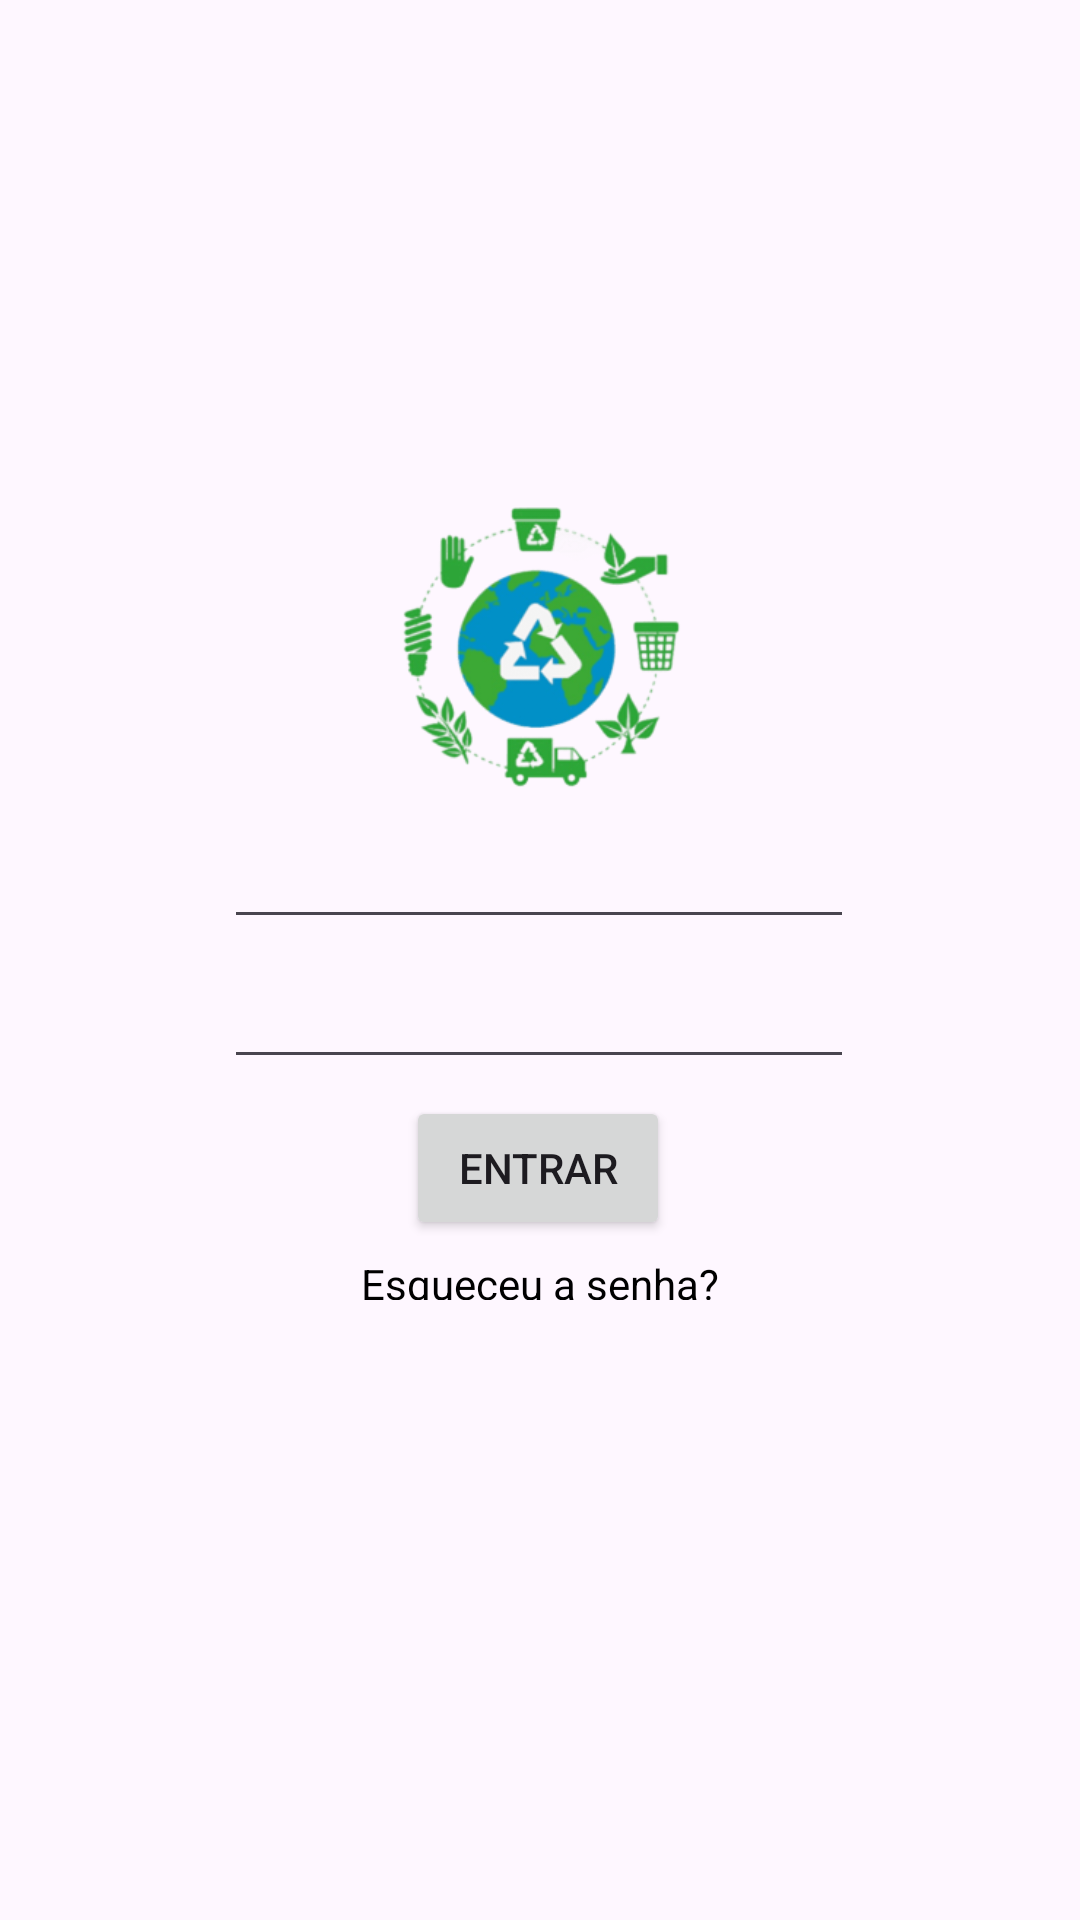

Icon bounding boxes for this 1080×1920 phone screenshot, format bbox=(x1, y1, x2, y2):
clean flow: bbox=(404, 507, 679, 787)
